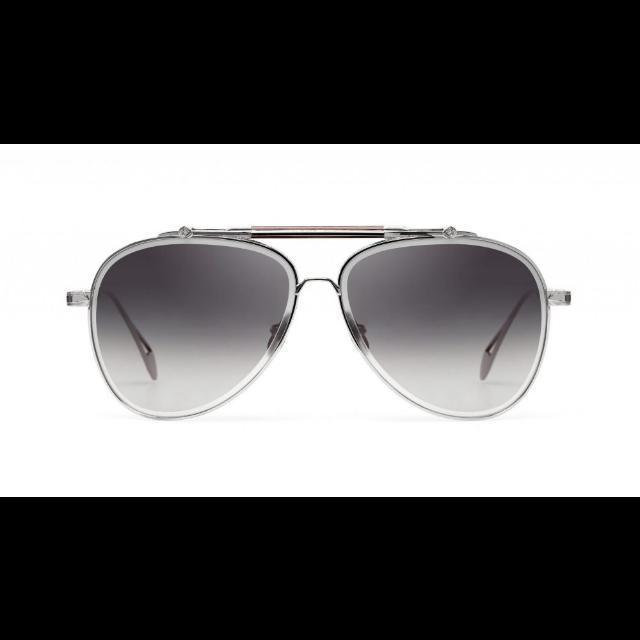glasses: (64, 222, 572, 422)
